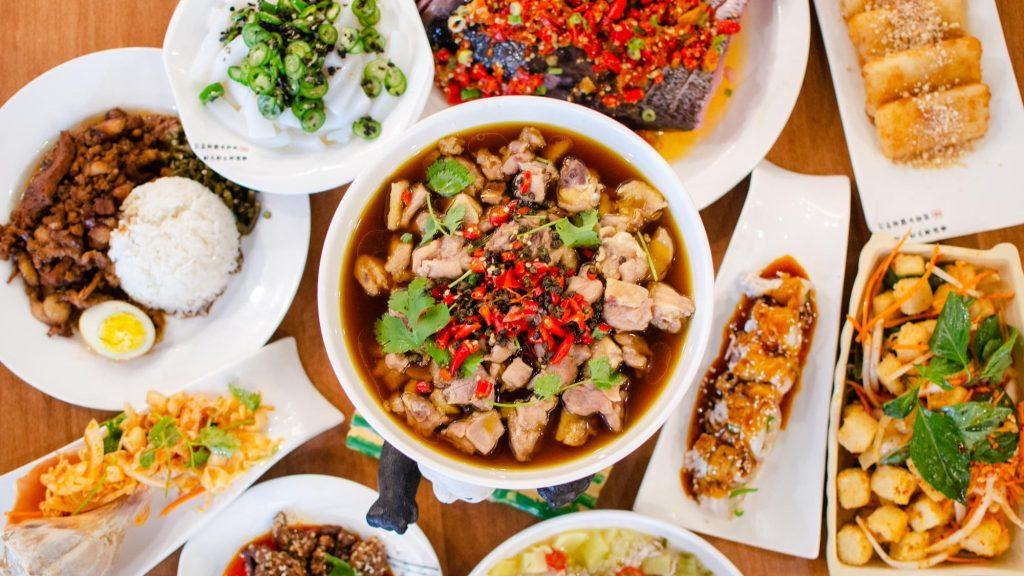Braised Crucian Carp: (314, 93, 698, 492), (3, 47, 311, 404), (405, 0, 808, 208), (639, 162, 849, 560), (5, 336, 347, 574), (822, 235, 1023, 573), (163, 1, 426, 196), (812, 0, 1023, 224)
